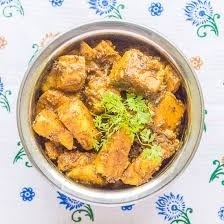sabzi: (25, 23, 196, 199)
